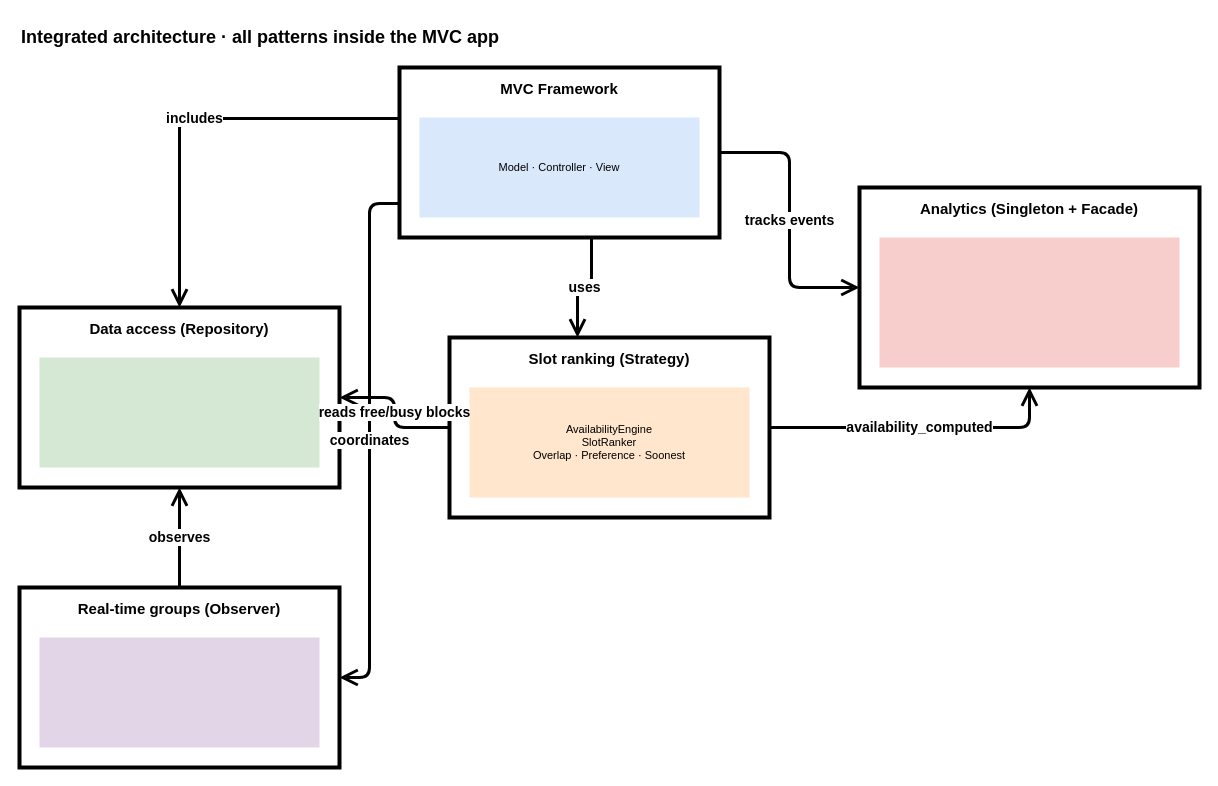
This 1218x786 diagram has some shape labels left out. Each missing label, with the centre of its shape:
"AnalyticsTracker EventQueue · ConnectivityMonitor FirebaseAnalytics" belongs at pixel 1029 302.
"GroupRepository as subject GroupListener GroupDetailActivity · DashboardActivity" belongs at pixel 179 692.
"GroupRepository FirestoreGroupRepository Callback<T>" belongs at pixel 179 412.
